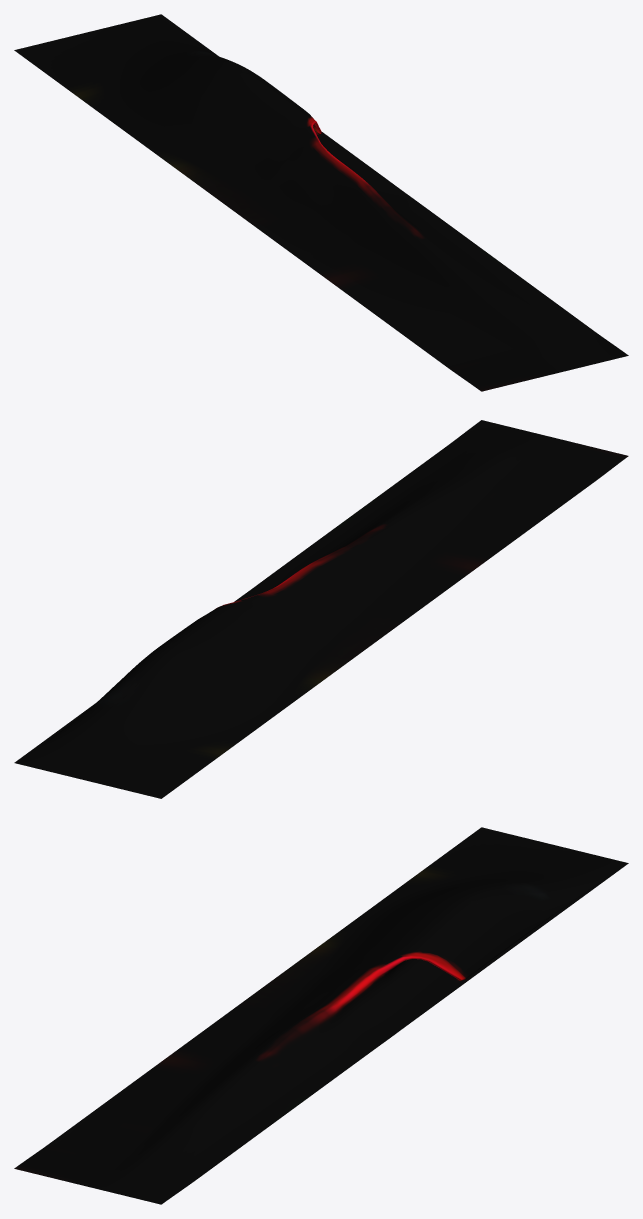
Rendered from RollingWave.fbx.
The picture shows the model from 3 angles, top to bottom: view 1: azimuth 30°, elevation 25°; view 2: azimuth 150°, elevation 25°; view 3: azimuth 330°, elevation 25°; orthographic projection.
Visible parts, largest first — view 1: WaveMesh; view 2: WaveMesh; view 3: WaveMesh.
Part boxes in pixels (x1,y1,x2,y2): WaveMesh: (14,14,628,391); WaveMesh: (14,420,628,798); WaveMesh: (14,827,628,1204).
Bounding box in the file's own units: 1497 × 394 × 8220.
